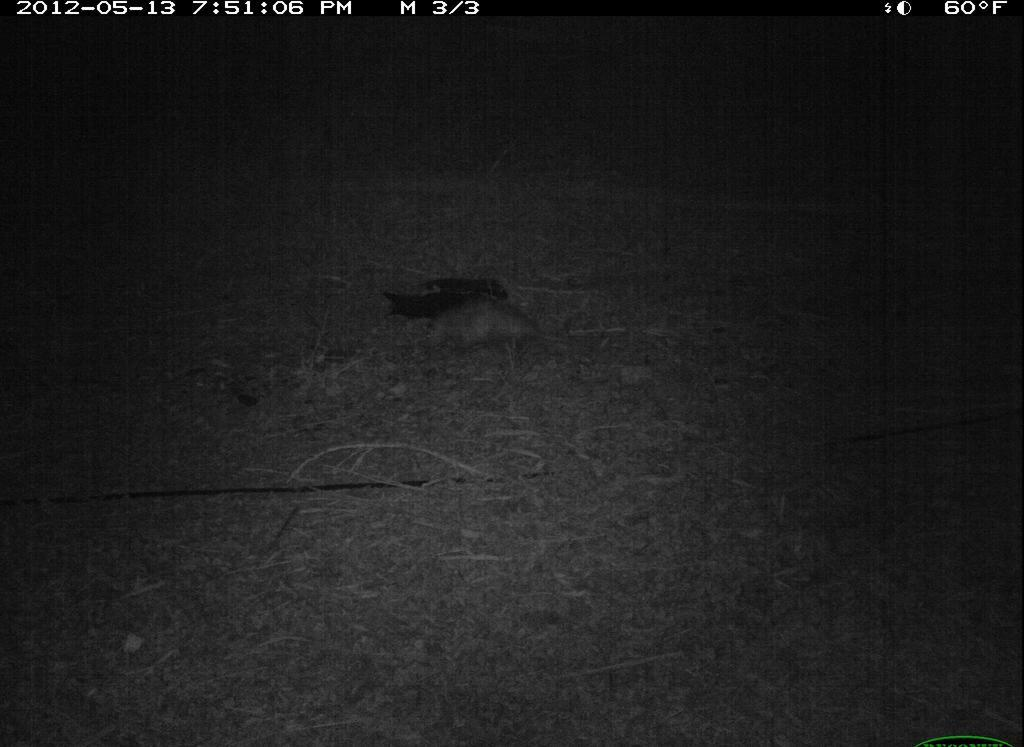opossum: (418, 294, 580, 369)
